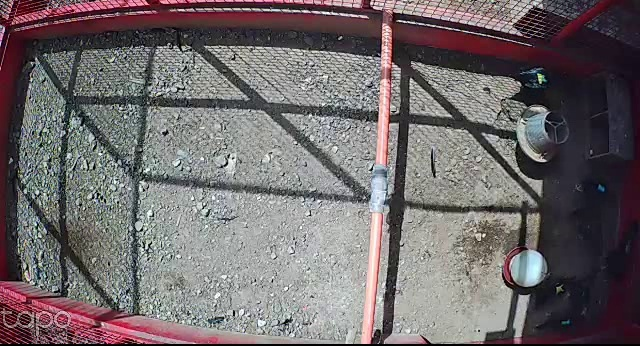Chicken: (534, 304, 595, 337), (565, 204, 607, 251), (530, 273, 576, 315), (507, 62, 564, 95), (568, 174, 618, 205)
Rooster: (593, 222, 637, 285)
Saddle_Color_Blue: (598, 183, 605, 192)
Saddle_Color_Yellow: (555, 285, 563, 293)
Saddle_Color_YellowGreen: (537, 74, 548, 83)
